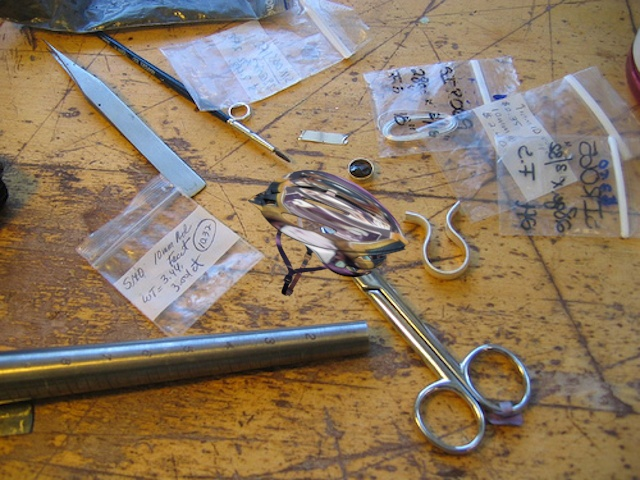bike_helmet: (240, 161, 417, 304)
